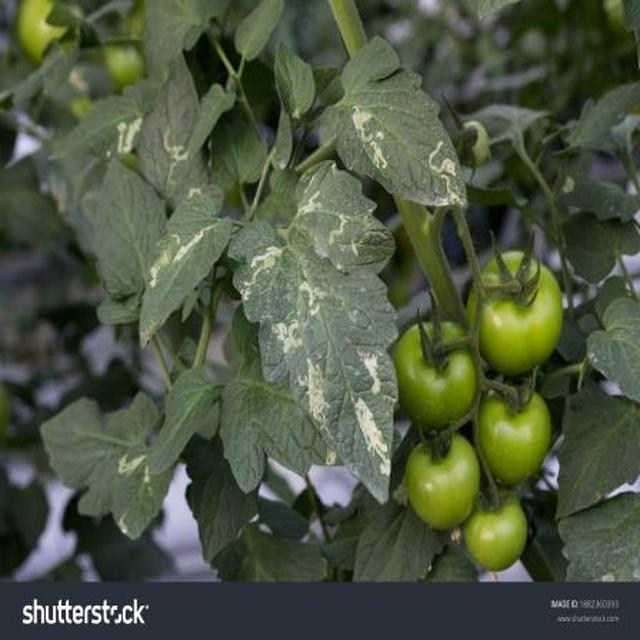Leaf Miner: (140, 176, 562, 499)
